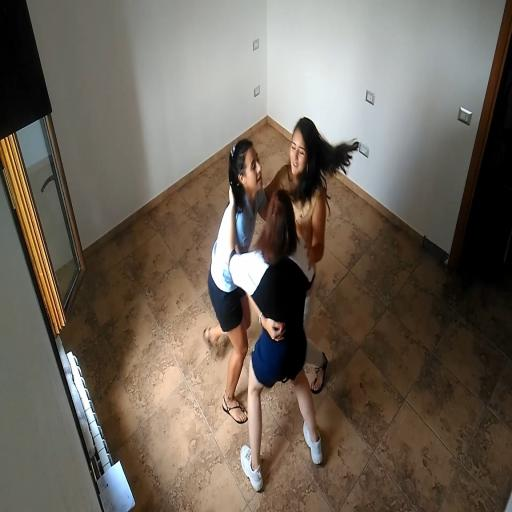nao-violencia: (194, 108, 365, 498)
